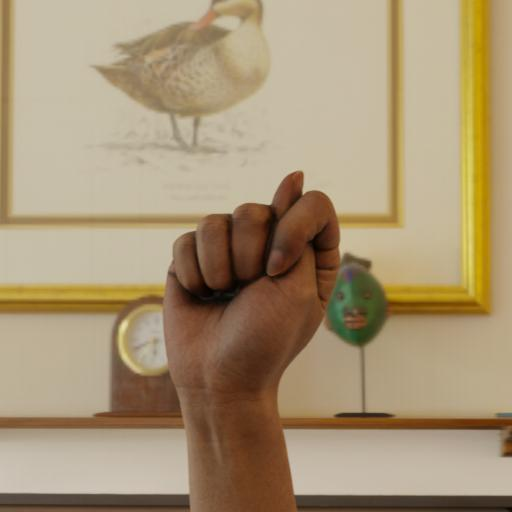T: (142, 140, 396, 424)
